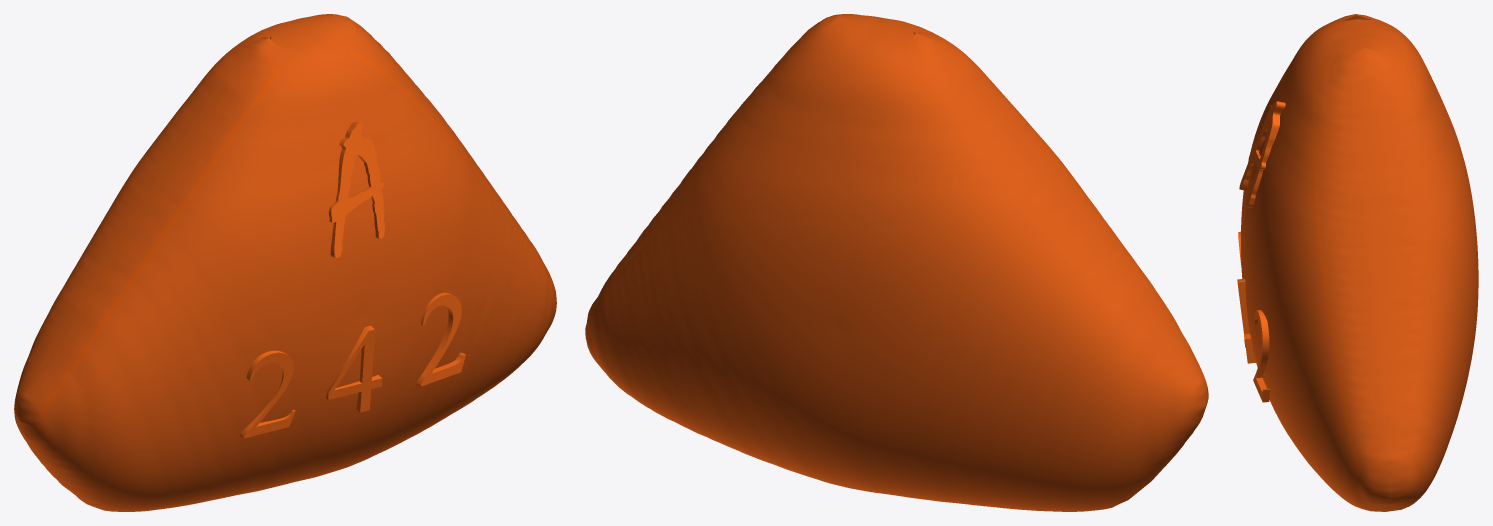
The model's file is Accupril.fbx.
3 renders of one model, left to right at view 1: azimuth 30°, elevation 25°; view 2: azimuth 150°, elevation 25°; view 3: azimuth 270°, elevation 25°, orthographic. The views are drawn at different scales.
Visible parts, largest first — view 1: node_id112, node_id57, node_id90, node_id100, node_id82; view 2: node_id112; view 3: node_id112, node_id57, node_id100, node_id90.
Part boxes in pixels (x1,y1,x2,y2): node_id112: (14,14,556,511); node_id57: (328,121,384,257); node_id90: (326,325,382,412); node_id100: (416,292,465,386); node_id82: (240,350,295,438); node_id112: (585,14,1208,511); node_id112: (1241,14,1478,511); node_id57: (1239,101,1285,207); node_id100: (1253,310,1270,402); node_id90: (1237,278,1255,363).
Bounding box in the file's own units: 1.1 × 0.8189 × 0.4249.
Materials: 5 (5 with a texture image).
